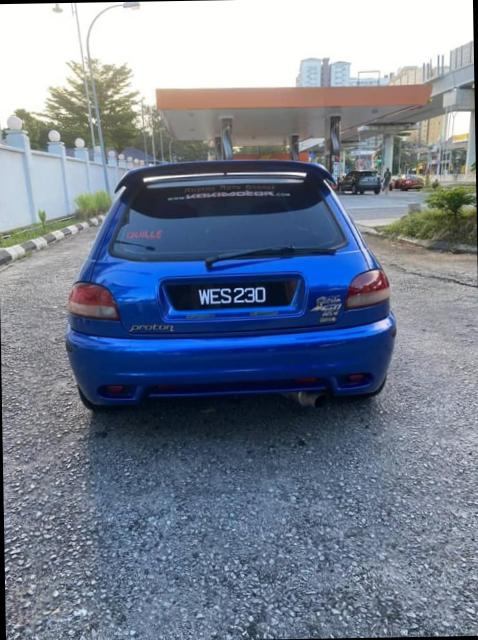License_Plate: (170, 282, 292, 309)
car: (61, 152, 395, 411)
